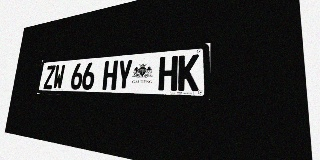6: (81, 62, 96, 90), (70, 63, 84, 90)
H: (158, 56, 178, 91), (102, 60, 118, 90)
K: (178, 54, 199, 91)
W: (52, 64, 65, 89)
Y: (116, 59, 133, 90)
Z: (43, 65, 56, 89)
